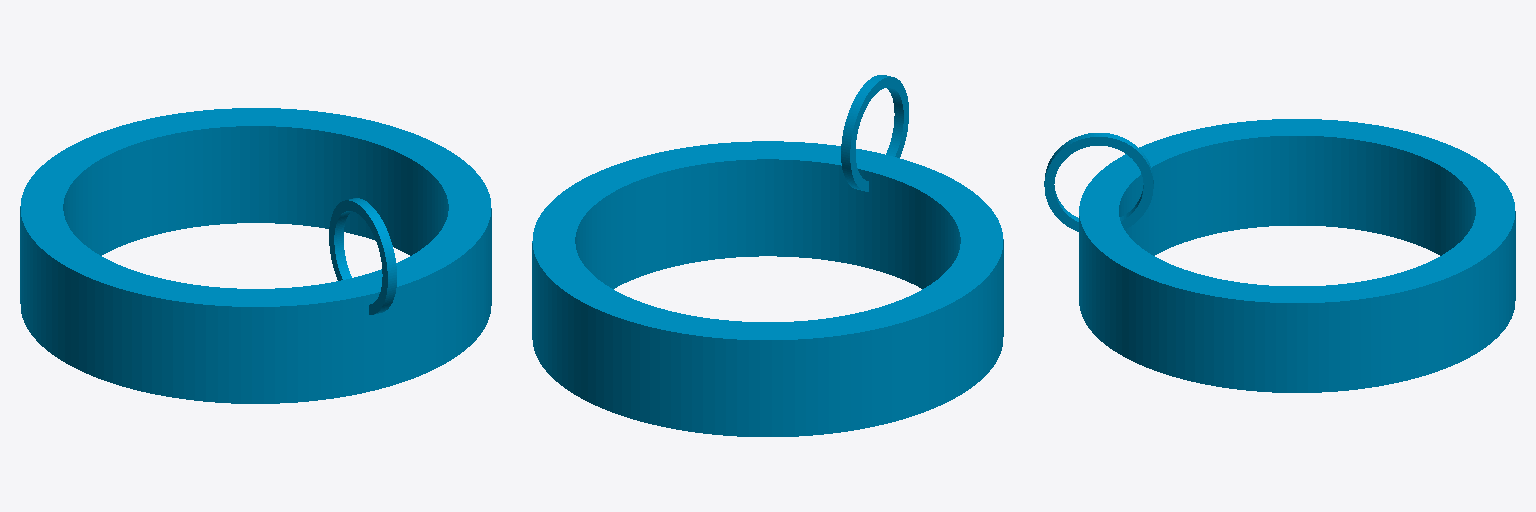
robot.urdf — track:
<?xml version="1.0" ?>
<robot name="track">

  <material name="arches-blue">
    <color rgba="0.0 0.6235294117647059 0.8313725490196079 1" />
  </material>

  <link name="track" concave="yes">
    <visual>
      <origin rpy="0 0 0" xyz="0 0 0"/>
      <geometry>
        <mesh filename="track.stl" scale="1 1 1"/>
      </geometry>
      <material name = "arches-blue"/>
    </visual>
    <collision concave="yes">
      <origin rpy="0 0 0" xyz="0 0 0"/>
      <geometry>
        <mesh filename="track.stl" scale="1 1 1"/>
      </geometry>
    </collision>
    <inertial>
      <origin rpy="0 0 0" xyz="0 0 0"/>
      <mass value="0"/>
      <inertia ixx="0" ixy="0" ixz="0" iyy="0" iyz="0" izz="0"/>
    </inertial>
  </link>

  <link name="start" concave="yes">
    <visual>
      <origin rpy="0 0 0" xyz="0 0 0"/>
      <geometry>
        <mesh filename="track.stl" scale="0.25 0.25 0.1"/>
      </geometry>
      <material name = "arches-blue"/>
    </visual>
    <collision concave="yes">
      <origin rpy="0 0 0" xyz="0 0 0"/>
      <geometry>
        <mesh filename="track.stl" scale="0.25 0.25 0.1"/>
      </geometry>
    </collision>
    <inertial>
      <origin rpy="0 0 0" xyz="0 0 0"/>
      <mass value="0"/>
      <inertia ixx="0" ixy="0" ixz="0" iyy="0" iyz="0" izz="0"/>
    </inertial>
  </link>

  <joint name="track_to_start" type="fixed">
		<parent link = "track" />
		<child link = "start" />
		<origin rpy="0 1.57 0" xyz="0 -10 4" />
	</joint>

</robot>

--- Facts derived from the render (not from the file) ---
3 views of the same robot in one strip: view 1: azimuth 30°, elevation 25°; view 2: azimuth 150°, elevation 25°; view 3: azimuth 270°, elevation 25° (orthographic).
Model track with 2 links and 1 joints (1 fixed), rooted at track, posed every joint at zero.
Visible links, largest first — view 1: track, start; view 2: track, start; view 3: track, start.
Boxes of the visible links, <box> form: track: <box>20,108,491,403</box>; start: <box>329,198,396,314</box>; track: <box>532,141,1003,436</box>; start: <box>841,75,908,191</box>; track: <box>1079,119,1515,392</box>; start: <box>1044,133,1153,231</box>.
Size in the robot's own frame: 22 by 23.75 by 9.25 metres.
2 mesh visuals loaded from 1 distinct referenced files (1 binary STL).